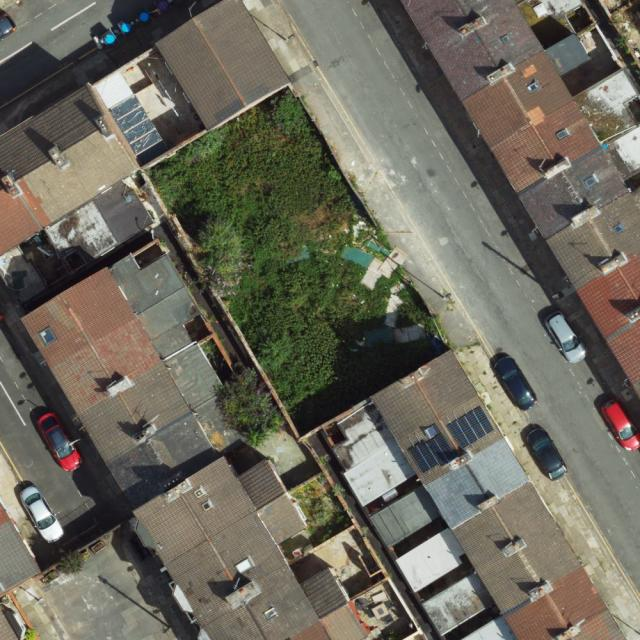roof: (24, 252, 370, 639), (402, 0, 640, 406), (335, 350, 633, 640), (0, 82, 157, 302), (157, 0, 292, 129), (0, 503, 41, 598)
skylight: (38, 324, 59, 347), (235, 554, 256, 576), (583, 173, 600, 190), (262, 605, 280, 621), (497, 29, 513, 46), (424, 423, 442, 438), (525, 80, 543, 95), (193, 483, 207, 500), (201, 498, 214, 515), (554, 127, 568, 142), (613, 221, 625, 237)
solar: (447, 406, 496, 450), (408, 433, 459, 475)
